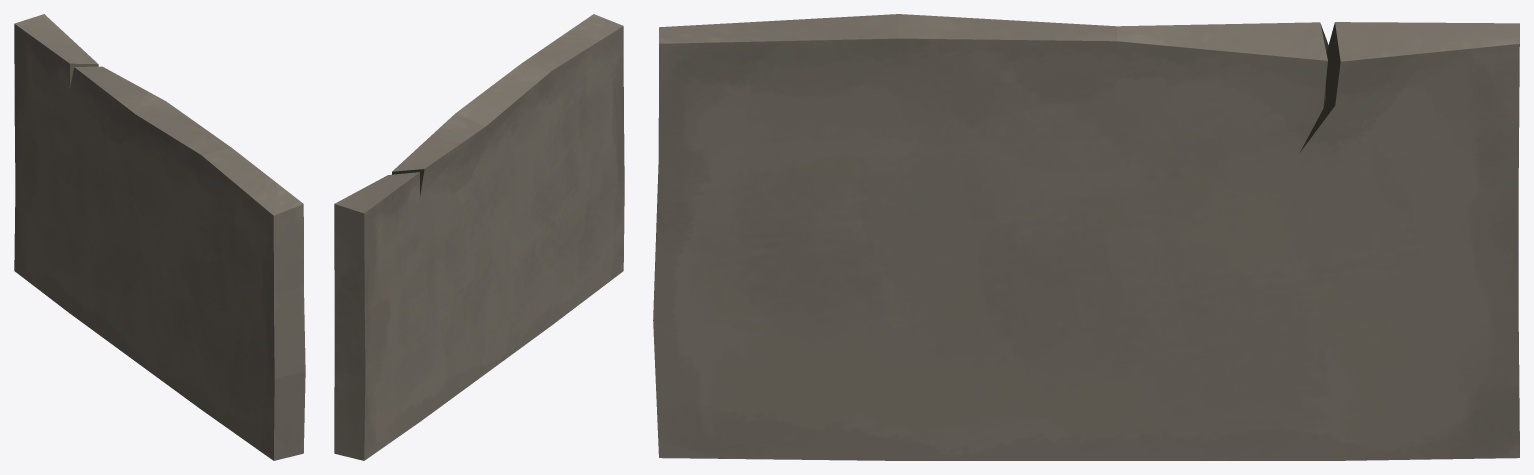
Rendered from Wall-section-1.fbx.
The picture shows the model from 3 angles, left to right: view 1: azimuth 30°, elevation 25°; view 2: azimuth 150°, elevation 25°; view 3: azimuth 270°, elevation 25°; orthographic projection. The views are drawn at different scales.
Visible parts, largest first — view 1: Cube.070; view 2: Cube.070; view 3: Cube.070.
Boxes of the visible parts, x1,y1,x2,y2 form: Cube.070: [14, 14, 305, 460]; Cube.070: [334, 14, 624, 460]; Cube.070: [653, 14, 1519, 460].
Size of the model in its own units: 26.5 by 211 by 393.
